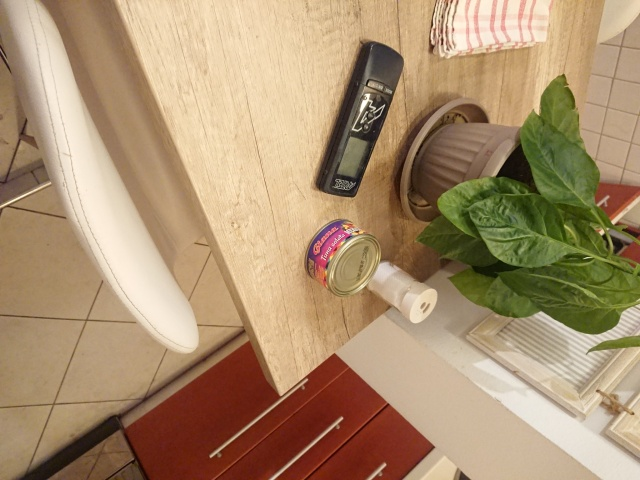Giana Tuna Salad Mexico 185g: (302, 215, 384, 300)
